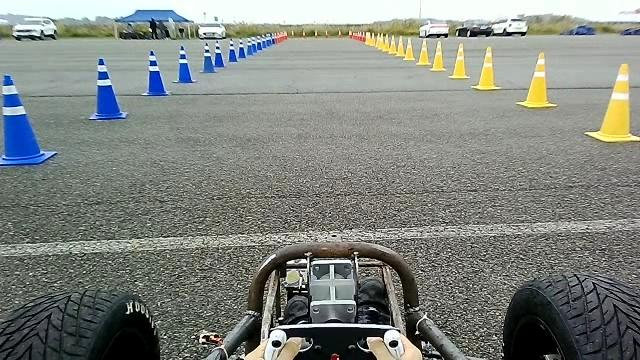blue cone: (0, 73, 57, 165), (88, 57, 127, 120), (140, 49, 169, 96), (172, 44, 197, 83), (199, 41, 217, 73), (213, 40, 224, 67), (227, 37, 238, 62), (237, 39, 246, 58)
yellow cone: (584, 62, 639, 142), (515, 51, 557, 108), (471, 46, 501, 90), (448, 42, 470, 79), (429, 40, 446, 71), (416, 38, 430, 65), (402, 36, 415, 60), (395, 35, 405, 56), (388, 35, 397, 54)
